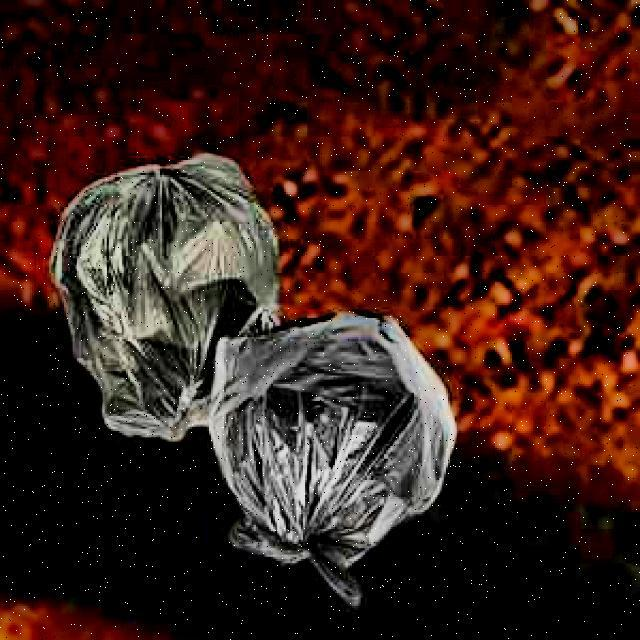Trashbag: (209, 309, 460, 609), (48, 154, 280, 439)
